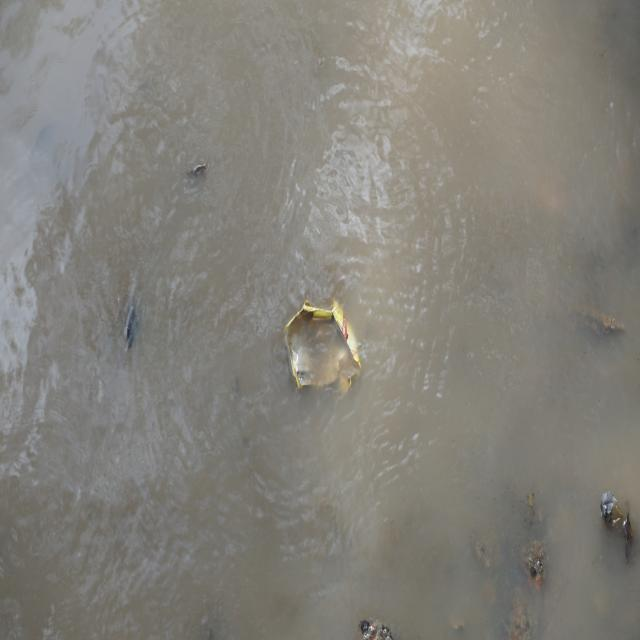Bungkus Minuman: (279, 296, 364, 408)
